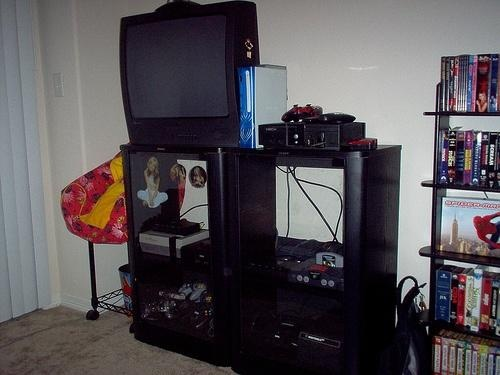tvmonitor: (118, 1, 262, 149)
